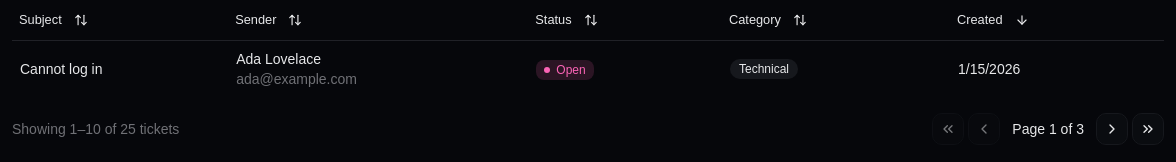
TicketsTable › disables Next/Last on the last page and enables First/Previous
The width and height of the screenshot is (1176, 162).
Expected: the link "Cannot log in" is shown, [20,60,102,76]
Click the button named "Last page". click: (1148, 128)
box: [1132,112,1164,144]
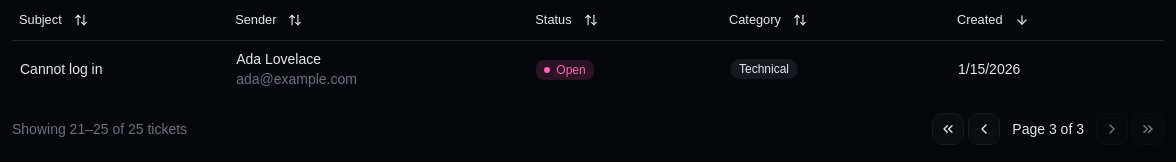
Expected: the button named "Next page" is disabled, [1096,112,1128,144]
Now the button named "Last page" is disabled, box [1132,112,1164,144]
Now the button named "First page" is enabled, box [932,112,964,144]
